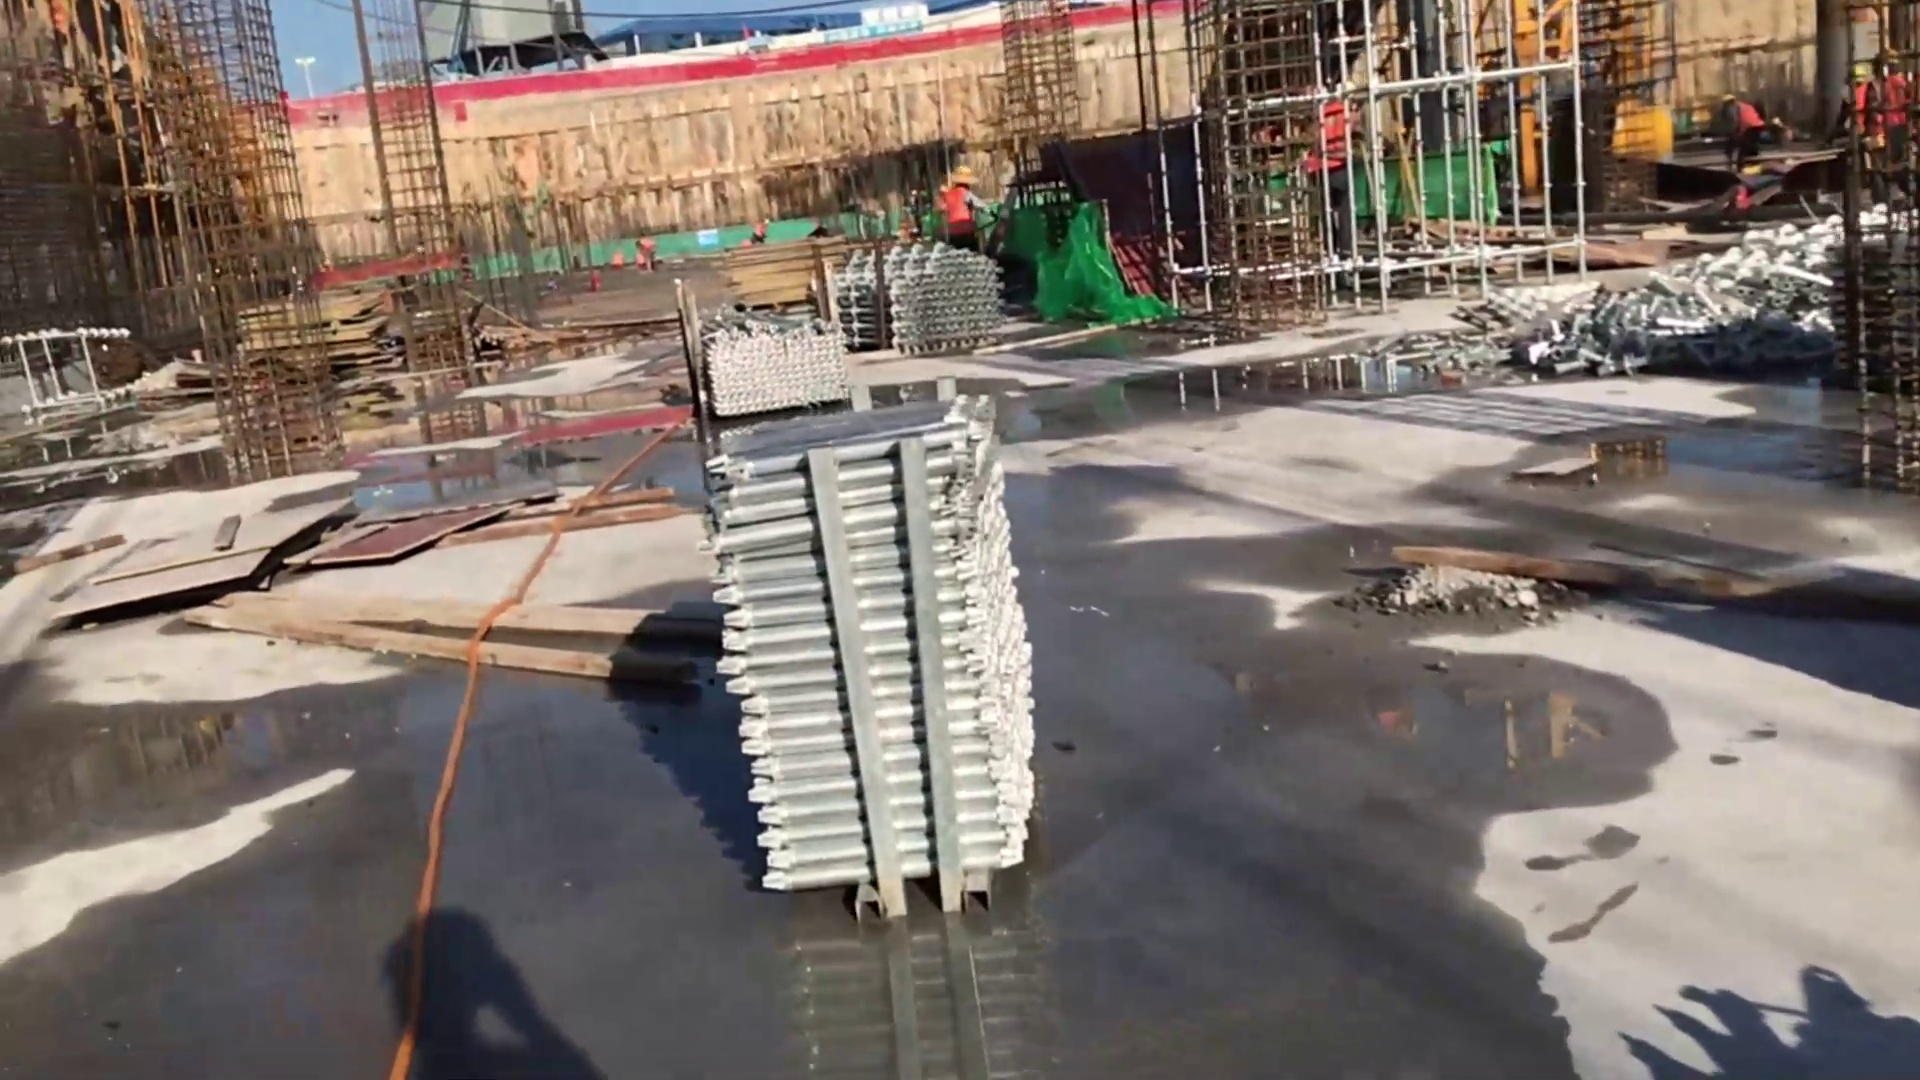board: (711, 246, 866, 308), (242, 295, 383, 356)
person: (1712, 84, 1771, 189), (1847, 64, 1882, 172), (940, 160, 983, 242)
scaffold: (716, 399, 1043, 889), (1665, 245, 1829, 377), (700, 317, 854, 407), (888, 250, 1000, 352)
vest: (945, 186, 975, 225)
